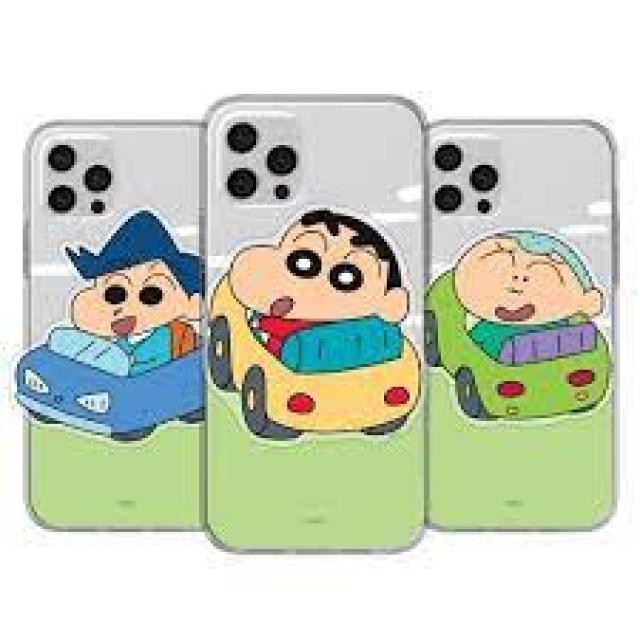phone: (197, 90, 428, 559), (426, 116, 620, 538), (18, 117, 206, 536)
